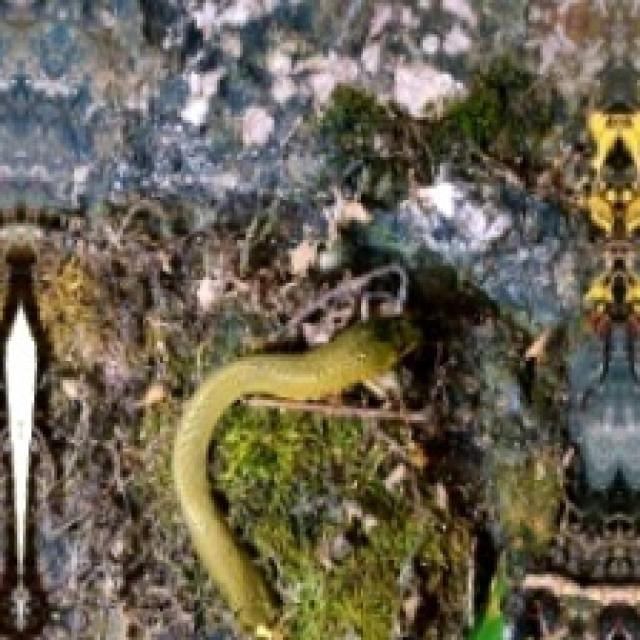gunthers philippine shrub snake: (171, 320, 414, 637)
